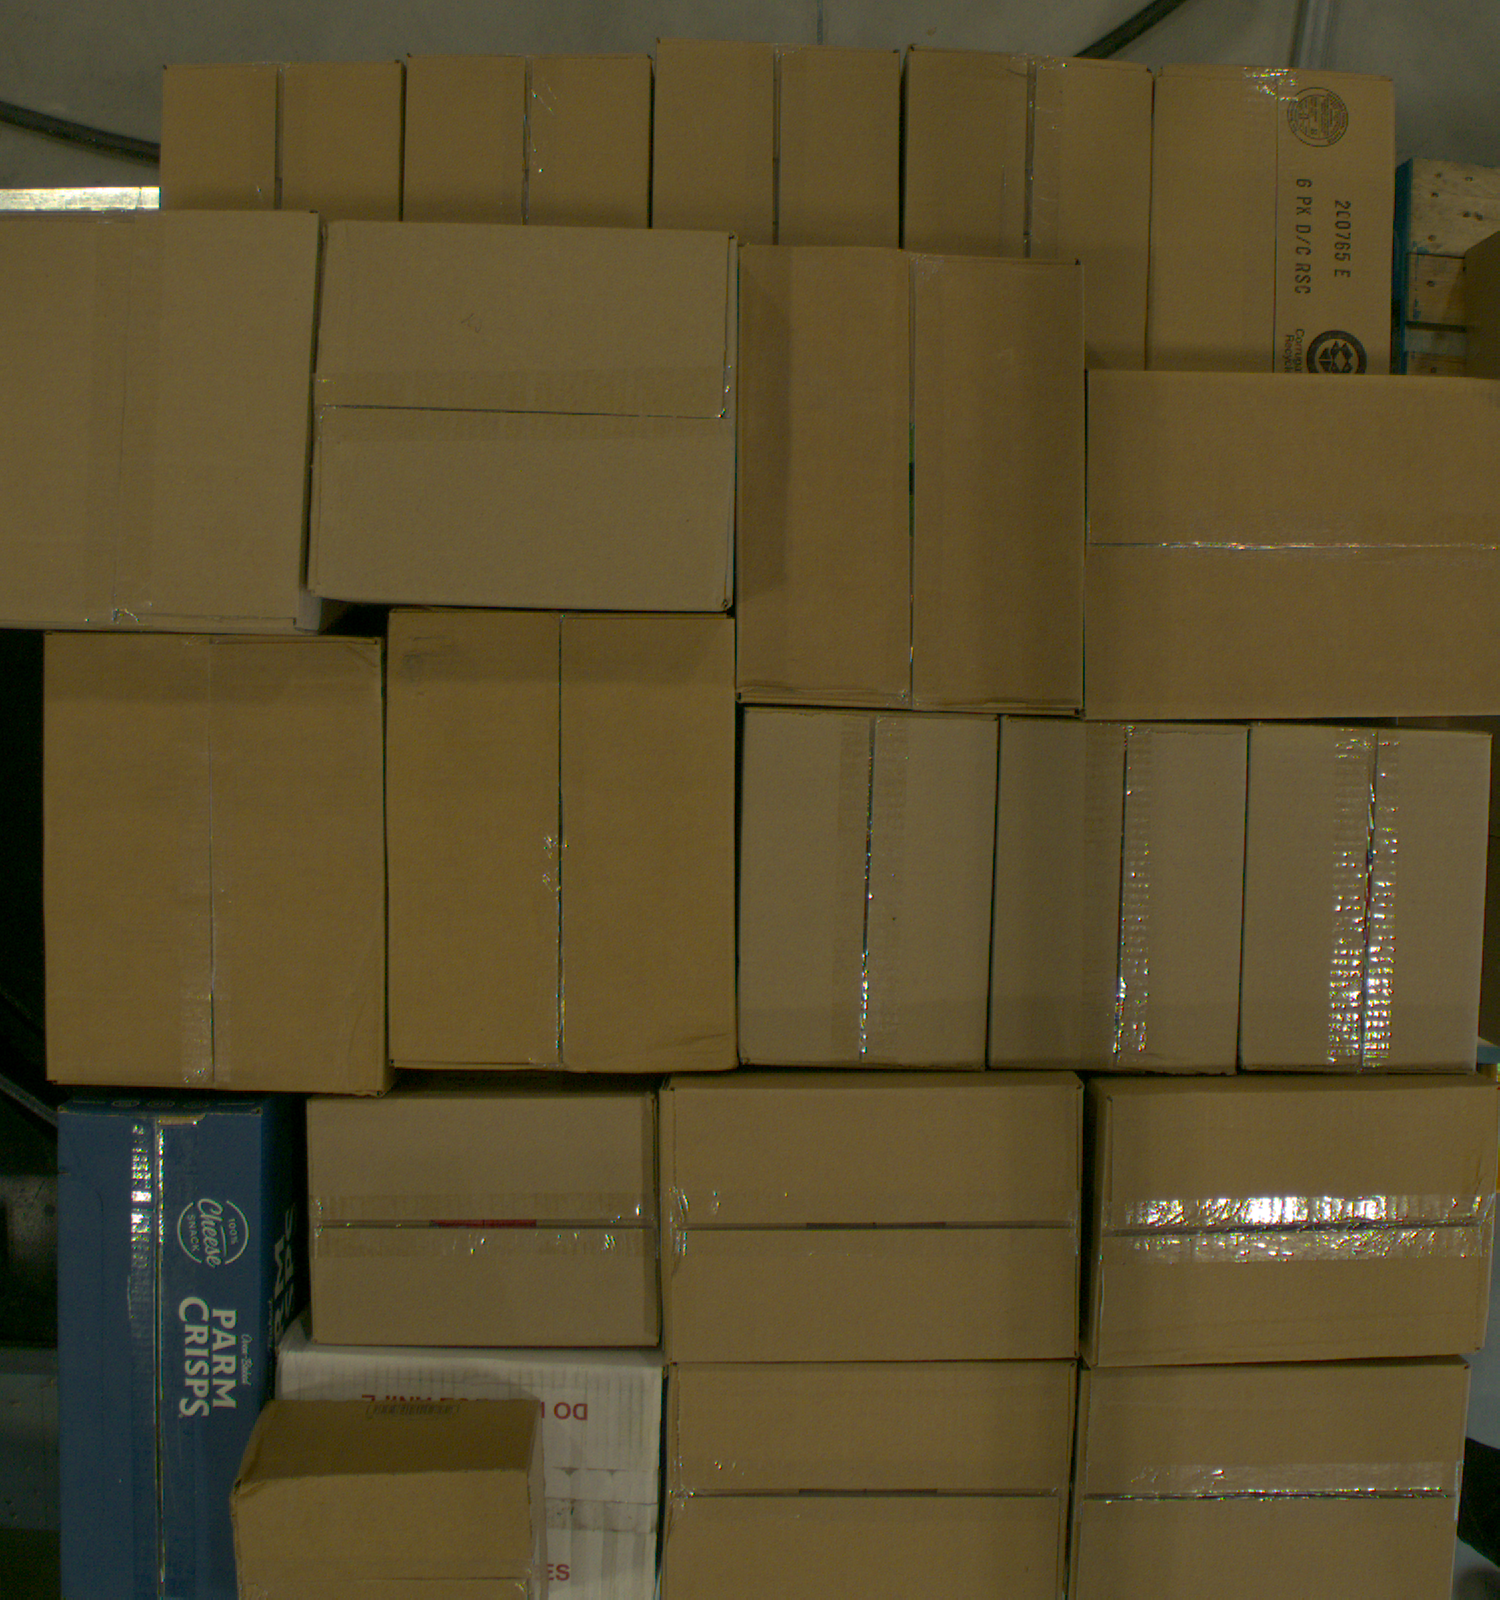box top: (312, 223, 737, 612), (737, 244, 1086, 718), (388, 612, 736, 1074), (47, 633, 388, 1095), (1086, 369, 1500, 720), (1, 211, 320, 630), (664, 1078, 1088, 1355), (1094, 1083, 1500, 1366), (59, 1112, 264, 1600), (663, 1363, 1078, 1600), (276, 1350, 664, 1600), (1069, 1365, 1473, 1600), (985, 713, 1246, 1076), (737, 708, 995, 1070), (1239, 722, 1492, 1071), (309, 1093, 660, 1343), (905, 47, 1150, 369), (1146, 63, 1394, 375), (654, 39, 902, 250), (405, 52, 653, 230), (230, 1470, 534, 1600), (161, 61, 402, 221)
